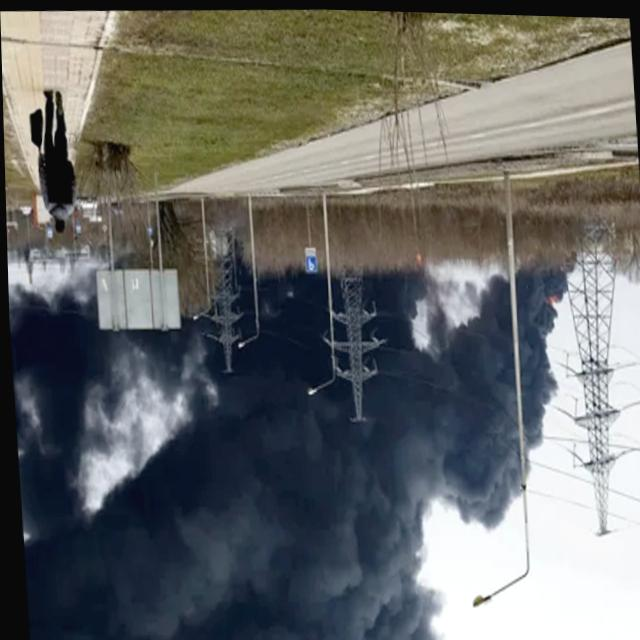no_helmet: (5, 231, 594, 640)
